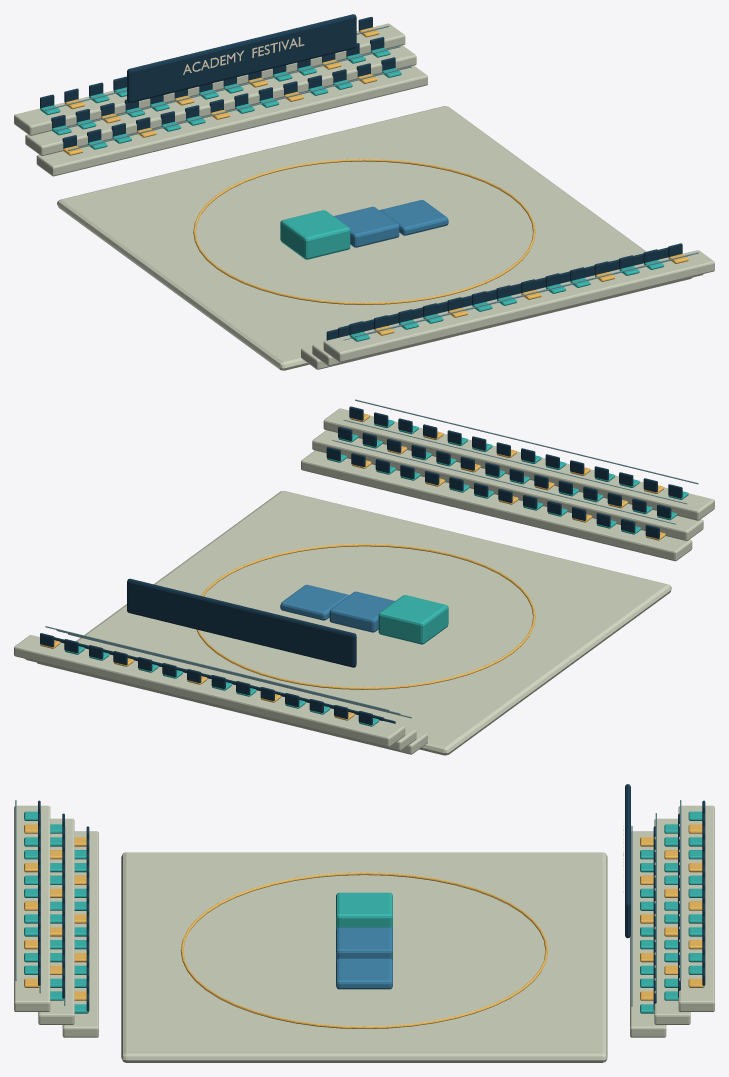
The model's file is festival-awards.glb.
The picture shows the model from 3 angles, top to bottom: view 1: azimuth 30°, elevation 25°; view 2: azimuth 150°, elevation 25°; view 3: azimuth 270°, elevation 25°; orthographic projection. The views are drawn at different scales.
Parts seen in each view (by area): view 1: Venue; view 2: Venue; view 3: Venue.
Boxes of the visible parts, x1=… form: Venue: x1=14, y1=14, x2=714, y2=370; Venue: x1=14, y1=399, x2=714, y2=755; Venue: x1=14, y1=784, x2=714, y2=1062.
Bounding box in the file's own units: 24 × 6.5 × 34.6.
